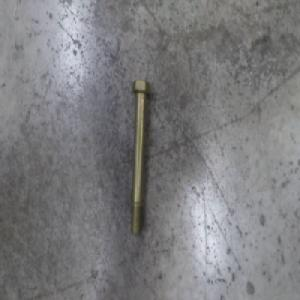Bolt: (129, 76, 151, 241)
